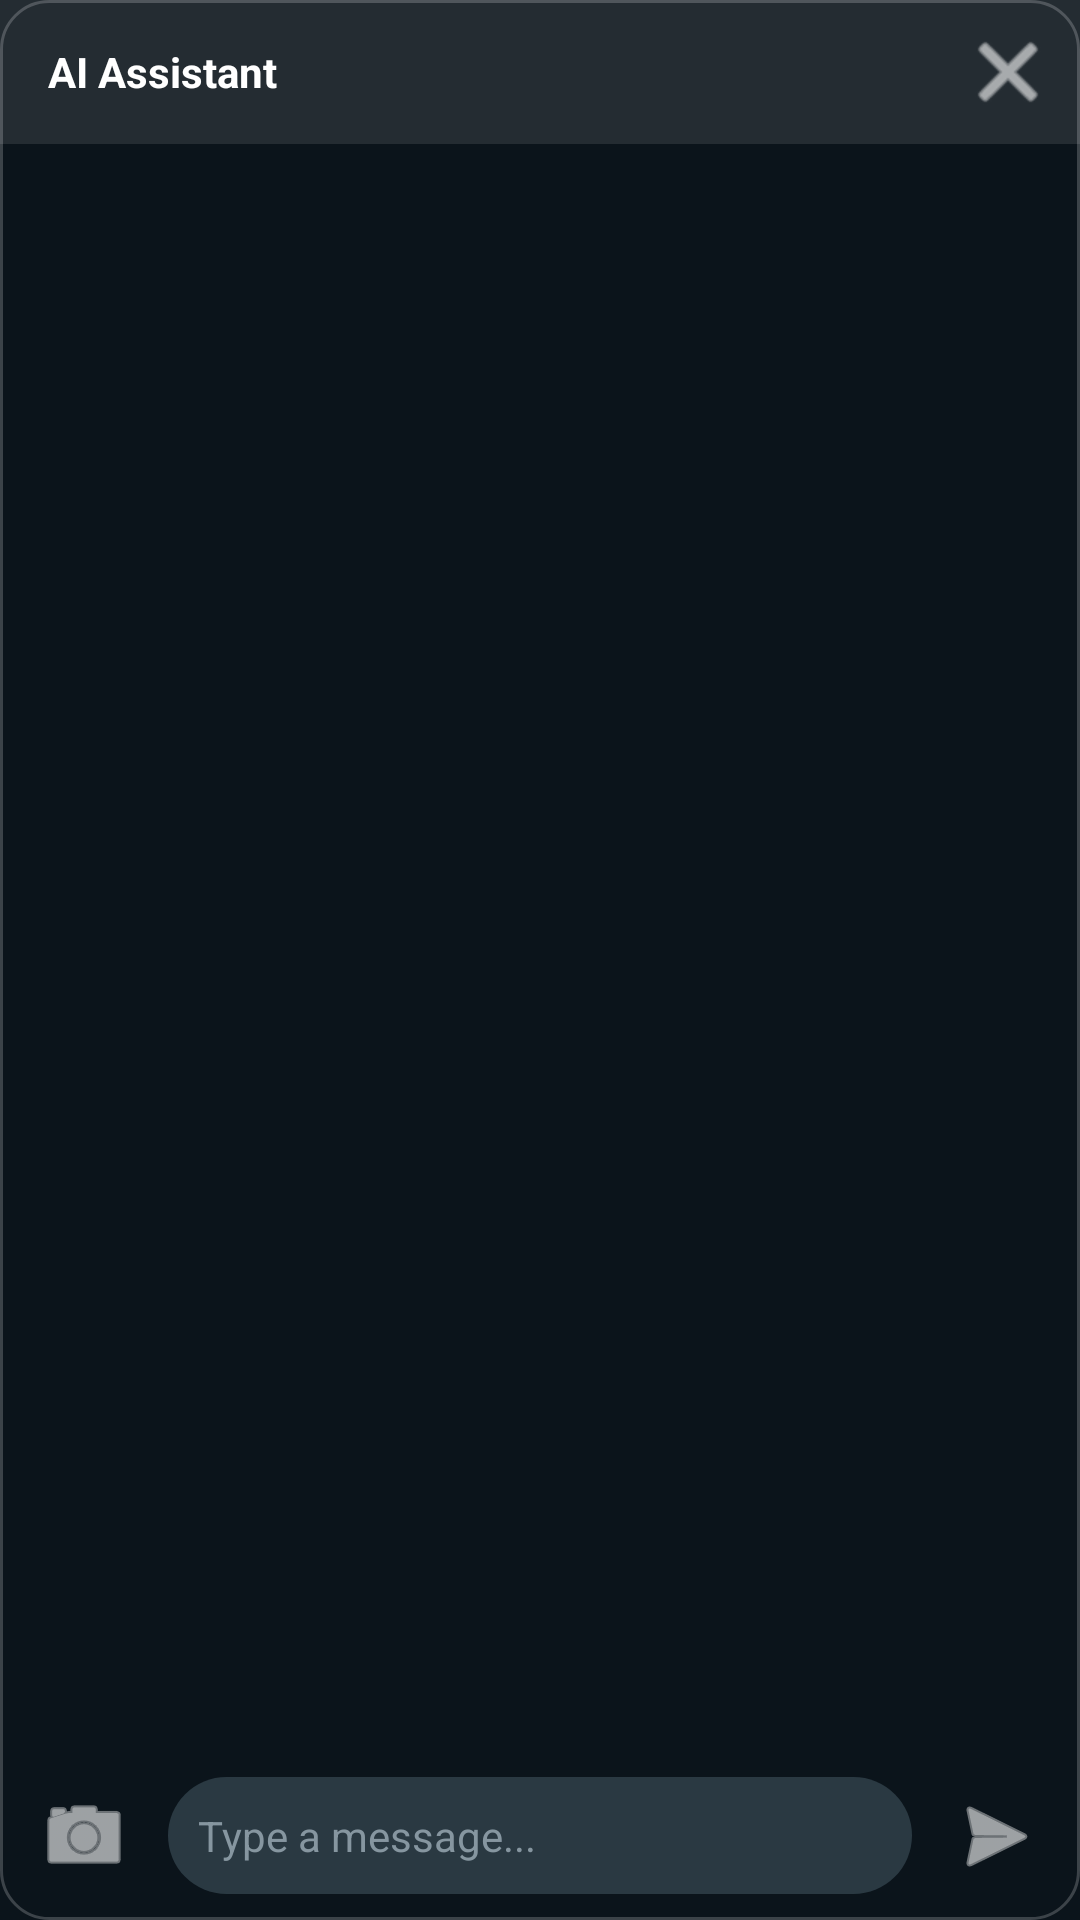

Locate icon controls on the screen. Image size 1080 × 1920, boxes as (x1, y1, x2, y2).
camera: (47, 1805, 121, 1864)
close clear cancel: (978, 42, 1038, 102)
send: (966, 1806, 1028, 1867)
